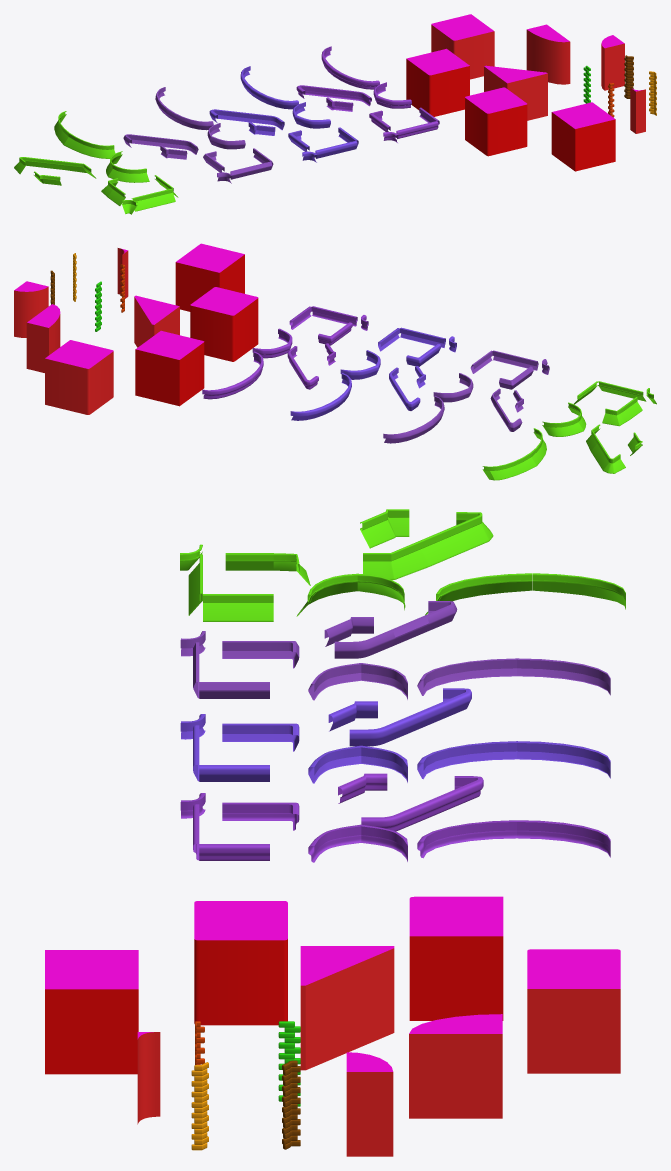
The model's file is Modular_Buildings_and_Trims.fbx.
3 views of the same model, one above another, from view 1: azimuth 30°, elevation 25°; view 2: azimuth 150°, elevation 25°; view 3: azimuth 270°, elevation 25° (orthographic). The views are drawn at different scales.
Visible parts, largest first — view 1: Floor_1_SquareCenter, Floor_1_4Corner, Floor_1_1Corner, Floor_1_2Corner, Floor1_HalfOval, Floor1_Triangle, Floor1_HalfCircle, Floor1_SquareConvex_Corner, Tent_Oval_Top_Trim, Tent_Full_Horizontal_Top_Trim, Tent_Circle_Top_Trim, TopChamger_Oval_Top_Trim (+8 smaller); view 2: Floor_1_1Corner, Floor_1_2Corner, Floor_1_4Corner, Floor_1_SquareCenter, Floor1_HalfOval, Floor1_Triangle, Floor1_HalfCircle, Tent_Oval_Cont_Top_Trim, Tent_Circle_Cont_Top_Trim, Chamf_Oval_Cont_Top_Trim, TopChamger_Oval_Cont_Top_Trim, NoChamfer_Oval_Cont_Top_Trim (+7 smaller); view 3: Floor_1_2Corner, Floor_1_SquareCenter, Floor_1_4Corner, Floor_1_1Corner, Floor1_Triangle, Floor1_HalfOval, Floor1_HalfCircle, Floor1_SquareConvex_Corner, Tent_3/4_Horizontal_Top_Trim, Chamf_Oval_Top_Trim, TopChamger_Oval_Top_Trim, NoChamfer_Oval_Top_Trim (+20 smaller).
Part boxes in pixels (x1,y1,x2,y2): Floor_1_SquareCenter: (551,102,615,171); Floor_1_4Corner: (465,87,527,156); Floor_1_1Corner: (406,48,469,116); Floor_1_2Corner: (431,14,494,79); Floor1_HalfOval: (526,24,570,84); Floor1_Triangle: (484,65,547,120); Floor1_HalfCircle: (601,35,624,90); Floor1_SquareConvex_Corner: (630,88,645,133); Tent_Oval_Top_Trim: (64,133,115,158); Tent_Full_Horizontal_Top_Trim: (131,188,175,211); Tent_Circle_Top_Trim: (108,165,149,182); TopChamger_Oval_Top_Trim: (251,88,298,109); Floor_1_1Corner: (135,330,204,406); Floor_1_2Corner: (45,340,113,414); Floor_1_4Corner: (190,287,258,361); Floor_1_SquareCenter: (175,243,244,311); Floor1_HalfOval: (26,304,60,372); Floor1_Triangle: (134,295,179,347); Floor1_HalfCircle: (14,281,48,337); Tent_Oval_Cont_Top_Trim: (482,452,536,480); Tent_Circle_Cont_Top_Trim: (542,417,583,436); Chamf_Oval_Cont_Top_Trim: (202,376,252,399); TopChamger_Oval_Cont_Top_Trim: (290,398,340,420); NoChamfer_Oval_Cont_Top_Trim: (383,420,433,443); Floor_1_2Corner: (527,949,620,1073); Floor_1_SquareCenter: (45,950,138,1074); Floor_1_4Corner: (194,901,287,1025); Floor_1_1Corner: (409,896,503,1020); Floor1_Triangle: (300,946,394,1070); Floor1_HalfOval: (409,1014,502,1118); Floor1_HalfCircle: (346,1052,393,1156); Floor1_SquareConvex_Corner: (137,1032,160,1124); Tent_3/4_Horizontal_Top_Trim: (203,594,273,621); Chamf_Oval_Top_Trim: (417,820,516,858); TopChamger_Oval_Top_Trim: (417,741,516,779); NoChamfer_Oval_Top_Trim: (417,658,516,695).
Size of the model in its own units: 42746 by 3596 by 18627.
